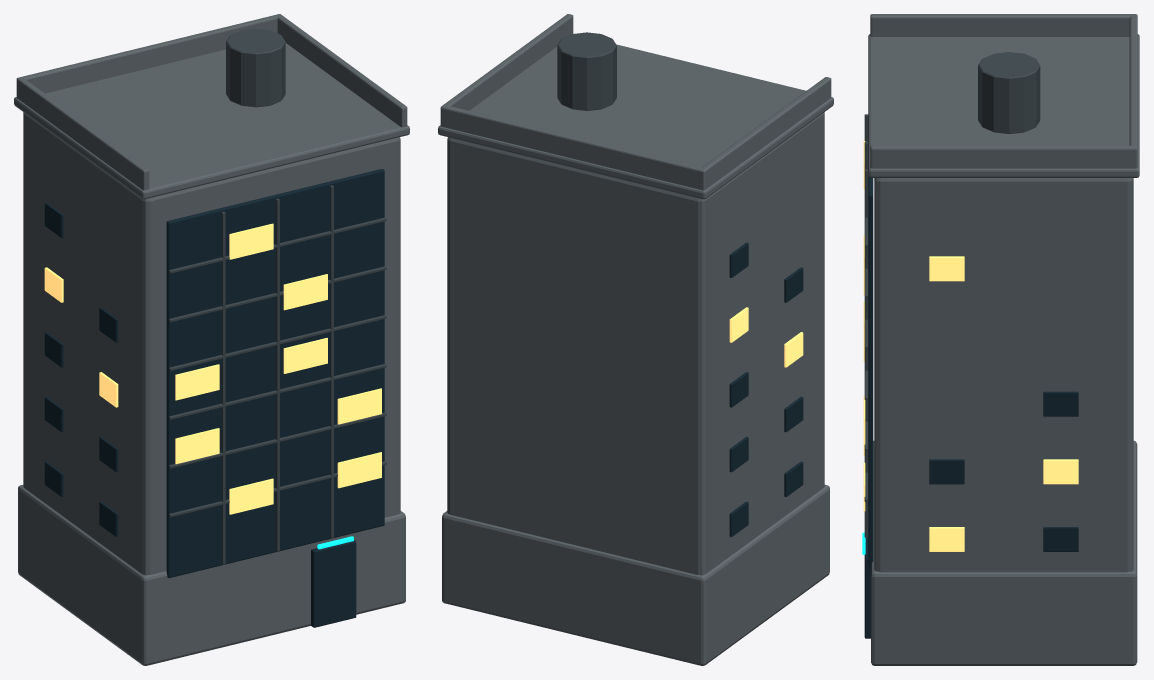
Rendered from glasshouse_b.glb.
3 renders of one model, left to right at view 1: azimuth 30°, elevation 25°; view 2: azimuth 150°, elevation 25°; view 3: azimuth 270°, elevation 25°, orthographic. The views are drawn at different scales.
Parts seen in each view (by area): view 1: ND_Batch_structure, ND_Batch_glass, ND_Batch_metal, ND_Batch_warm; view 2: ND_Batch_structure, ND_Batch_metal, ND_Batch_glass, ND_Batch_warm; view 3: ND_Batch_structure, ND_Batch_metal, ND_Batch_glass, ND_Batch_warm.
Part boxes in pixels (bbox=[...]): ND_Batch_structure: bbox=[14, 14, 409, 665]; ND_Batch_glass: bbox=[44, 169, 384, 627]; ND_Batch_metal: bbox=[168, 28, 386, 564]; ND_Batch_warm: bbox=[44, 223, 381, 514]; ND_Batch_structure: bbox=[438, 14, 833, 665]; ND_Batch_metal: bbox=[557, 32, 616, 110]; ND_Batch_glass: bbox=[729, 242, 803, 536]; ND_Batch_warm: bbox=[729, 307, 803, 367]; ND_Batch_structure: bbox=[868, 14, 1139, 665]; ND_Batch_metal: bbox=[864, 52, 1040, 537]; ND_Batch_glass: bbox=[864, 176, 1078, 638]; ND_Batch_warm: bbox=[863, 141, 1078, 551].
Bounding box in the file's own units: 7.48 × 14.28 × 6.42.
